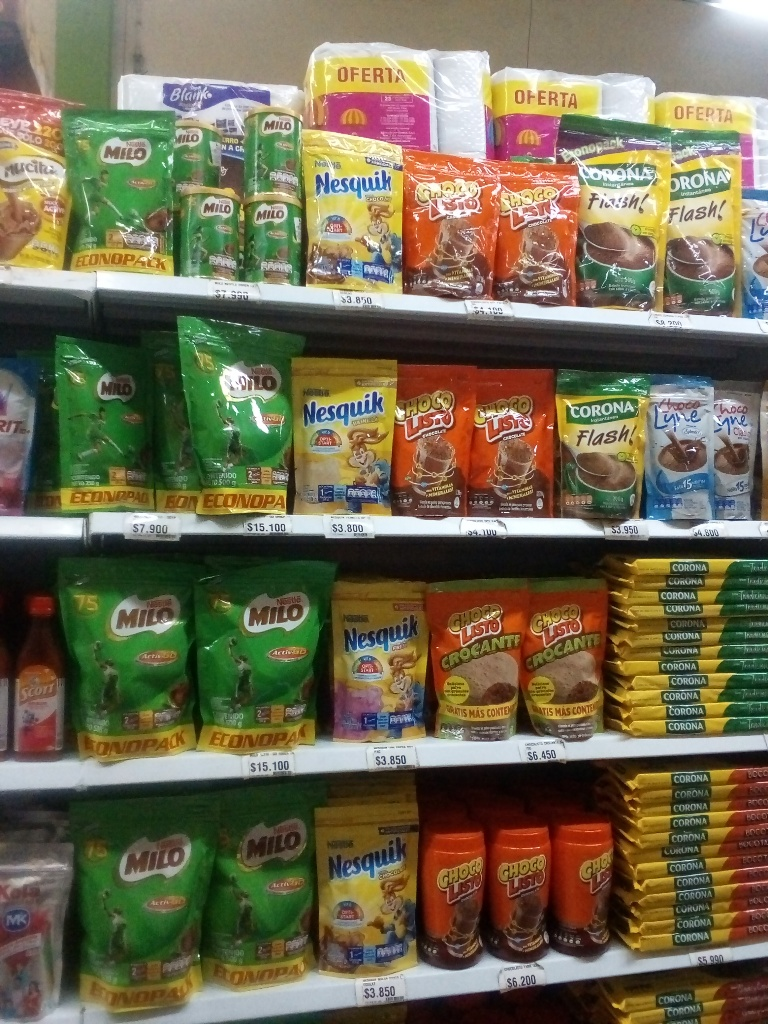COL0170203LAT20000: (175, 186, 243, 280)
COL0170303DYP20000: (300, 129, 405, 295)
COL0170306DYP20000: (290, 353, 397, 517)
